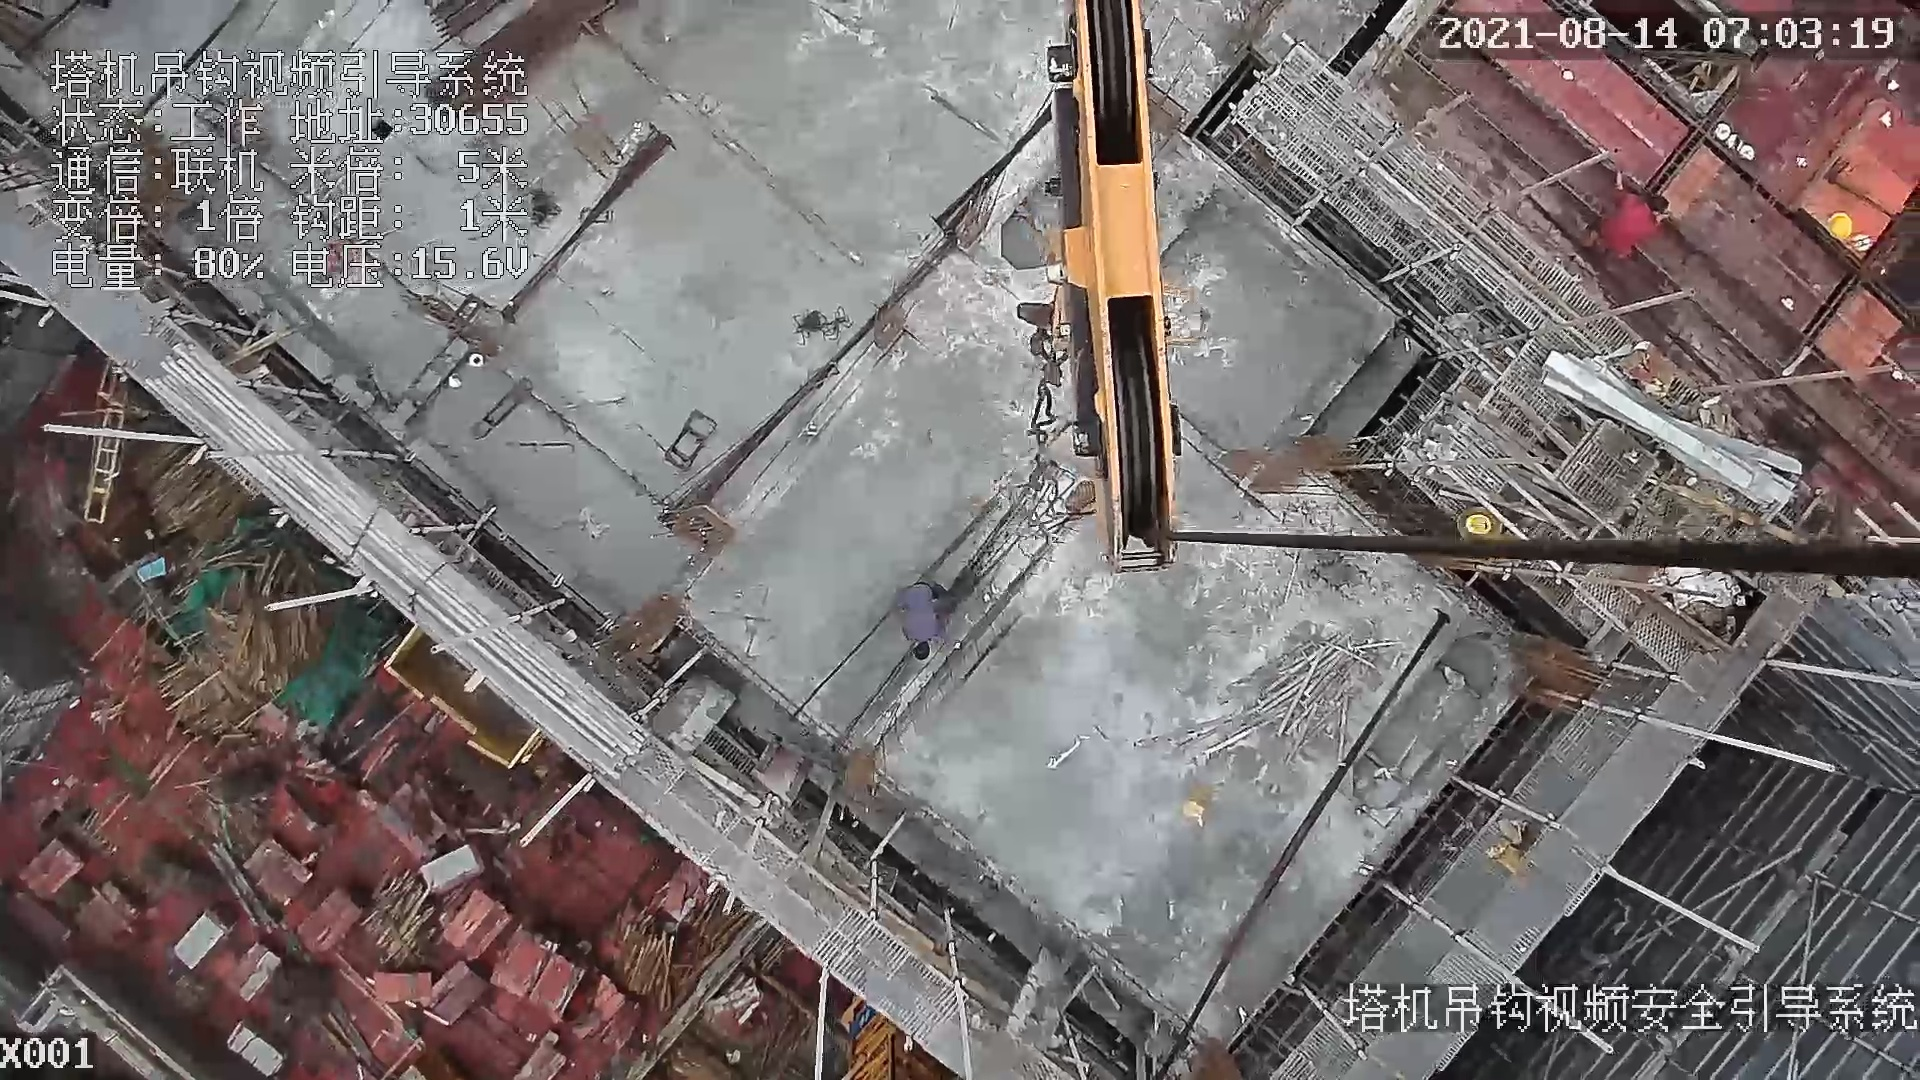helmet: (1825, 208, 1853, 242)
hook: (1004, 1, 1176, 574)
person: (1599, 172, 1671, 265), (890, 577, 945, 662)
